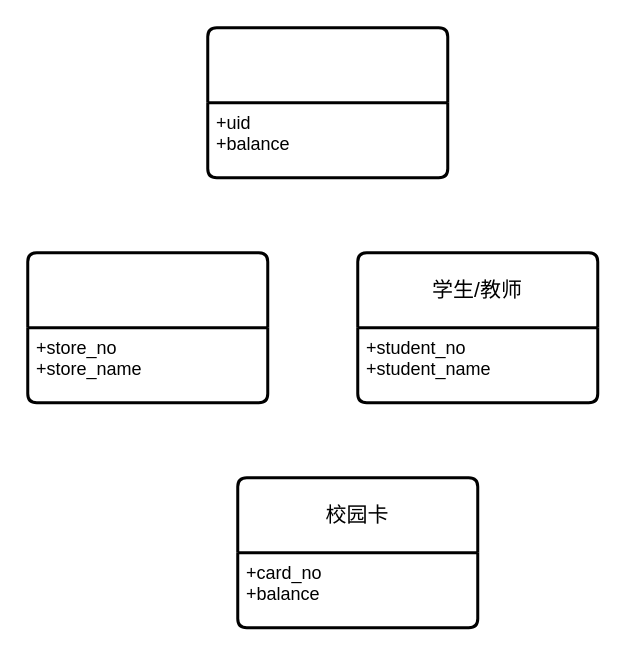
The diagram is 624 pixels wide and 654 high, and some of its shapes have lost their labels. Each missing label, with the box of its shape:
商家: (26, 250, 268, 404)
用户: (206, 26, 448, 178)
